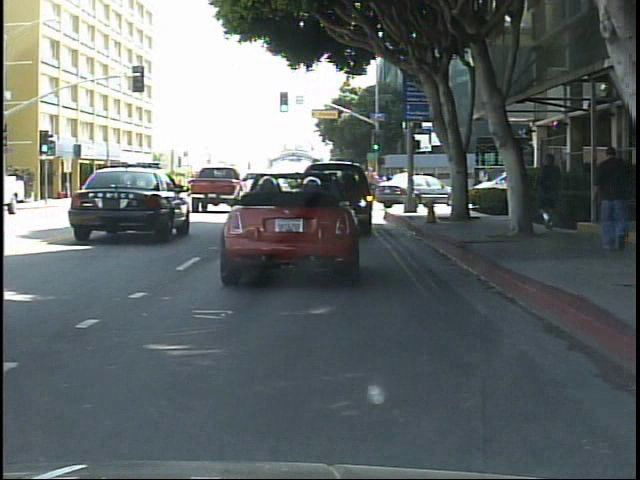person: (593, 141, 636, 260), (533, 146, 570, 236), (133, 175, 151, 202)
